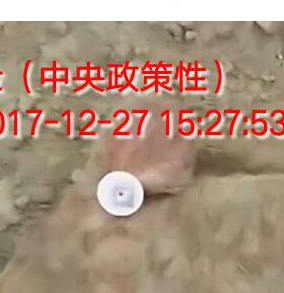text: (90, 161, 152, 225)
